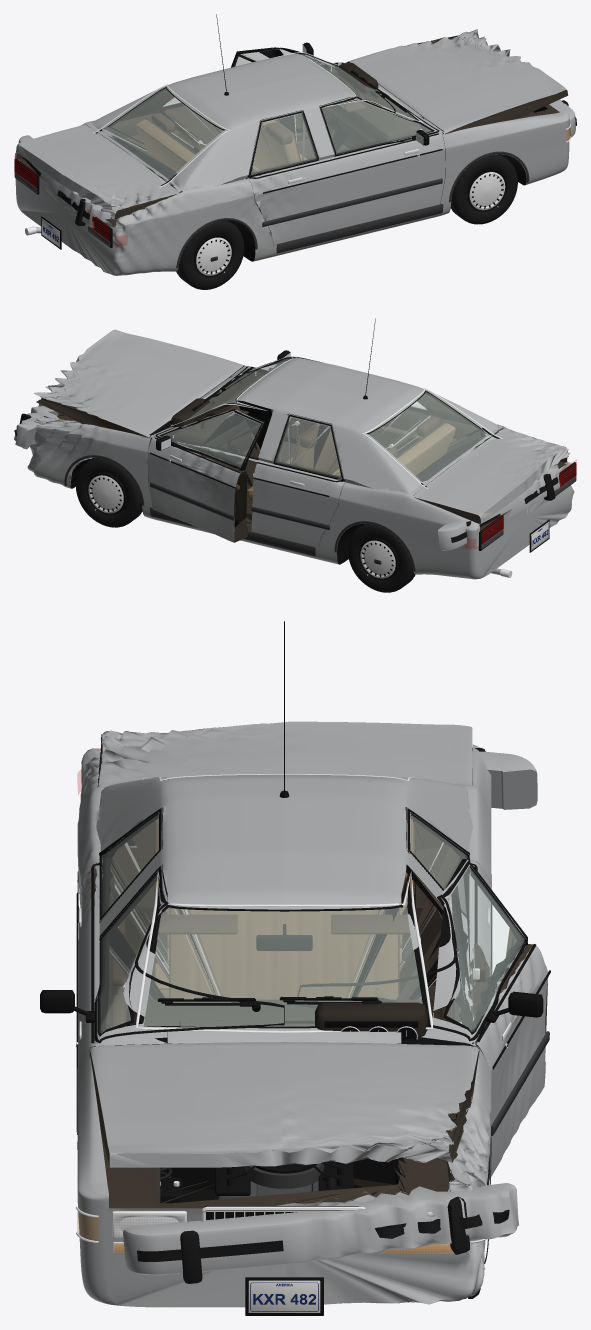
The model's file is sedan87_damaged.glb.
3 views of the same model, one above another, from view 1: azimuth 30°, elevation 25°; view 2: azimuth 150°, elevation 25°; view 3: azimuth 270°, elevation 25° (orthographic). The views are drawn at different scales.
Visible parts, largest first — view 1: Body, Hood, Trunk, Interior, Door_FR, Glass, Door_RR, Wheel_FR_mesh, Wheel_RR_mesh, Glass_FR, Glass_RR, Trim (+6 smaller); view 2: Body, Hood, Door_FL, Trunk, Glass, Interior, Door_RL, Wheel_FL_mesh, Wheel_RL_mesh, Glass_FL, Glass_RL, Bumper_R (+9 smaller); view 3: Body, Hood, Glass, Interior, Bumper_F, Trunk, Door_FL, Glass_FL, Ends, Door_FR, Engine, Glass_FR (+10 smaller).
Boxes of the visible parts, x1,y1,x2,y2 form: Body: (15, 53, 569, 275); Hood: (347, 29, 568, 134); Trunk: (16, 124, 179, 219); Interior: (136, 62, 424, 192); Door_FR: (319, 97, 445, 228); Glass: (92, 52, 422, 187); Door_RR: (245, 110, 341, 245); Wheel_FR_mesh: (450, 154, 517, 224); Wheel_RR_mesh: (176, 220, 244, 289); Glass_FR: (319, 97, 434, 153); Glass_RR: (250, 113, 316, 175); Trim: (176, 14, 529, 268); Body: (27, 358, 574, 579); Hood: (34, 329, 245, 437); Door_FL: (147, 410, 265, 542); Trunk: (413, 428, 568, 523); Glass: (170, 356, 503, 488); Interior: (171, 374, 455, 501); Door_RL: (251, 414, 346, 548); Wheel_FL_mesh: (75, 457, 142, 527); Wheel_RL_mesh: (347, 523, 415, 592); Glass_FL: (160, 409, 263, 469); Glass_RL: (276, 417, 341, 477); Bumper_R: (438, 465, 560, 550); Body: (77, 744, 491, 1307); Hood: (89, 1042, 479, 1167); Glass: (136, 773, 433, 1032); Interior: (126, 818, 442, 1043); Bumper_F: (123, 1183, 518, 1283); Trunk: (98, 721, 472, 786); Door_FL: (415, 859, 548, 1179); Glass_FL: (437, 867, 526, 1033); Ends: (76, 1206, 486, 1315); Door_FR: (77, 864, 167, 1070); Engine: (160, 1161, 353, 1203); Glass_FR: (96, 875, 170, 1035).
Size of the model in its own units: 4.86 by 2.14 by 2.18.
Materials: 33 (5 with a texture image).
